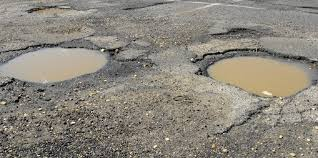pothole: (172, 31, 318, 111), (1, 31, 128, 108), (17, 1, 89, 29)
